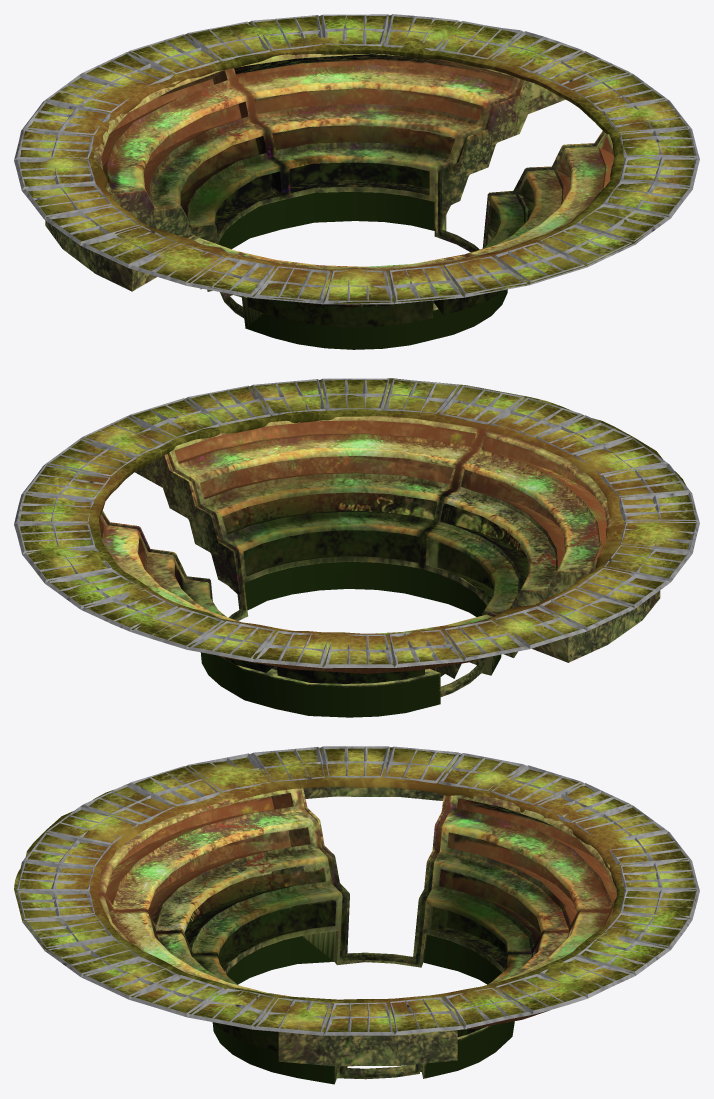
The model's file is start area.fbx.
3 views of the same model, one above another, from view 1: azimuth 30°, elevation 25°; view 2: azimuth 150°, elevation 25°; view 3: azimuth 270°, elevation 25° (orthographic).
Visible parts, largest first — view 1: Plane; view 2: Plane; view 3: Plane.
Boxes of the visible parts, x1,y1,x2,y2 form: Plane: (14,14,699,349); Plane: (14,378,699,717); Plane: (14,746,699,1084).
Bounding box in the file's own units: 1882 × 413 × 1893.
